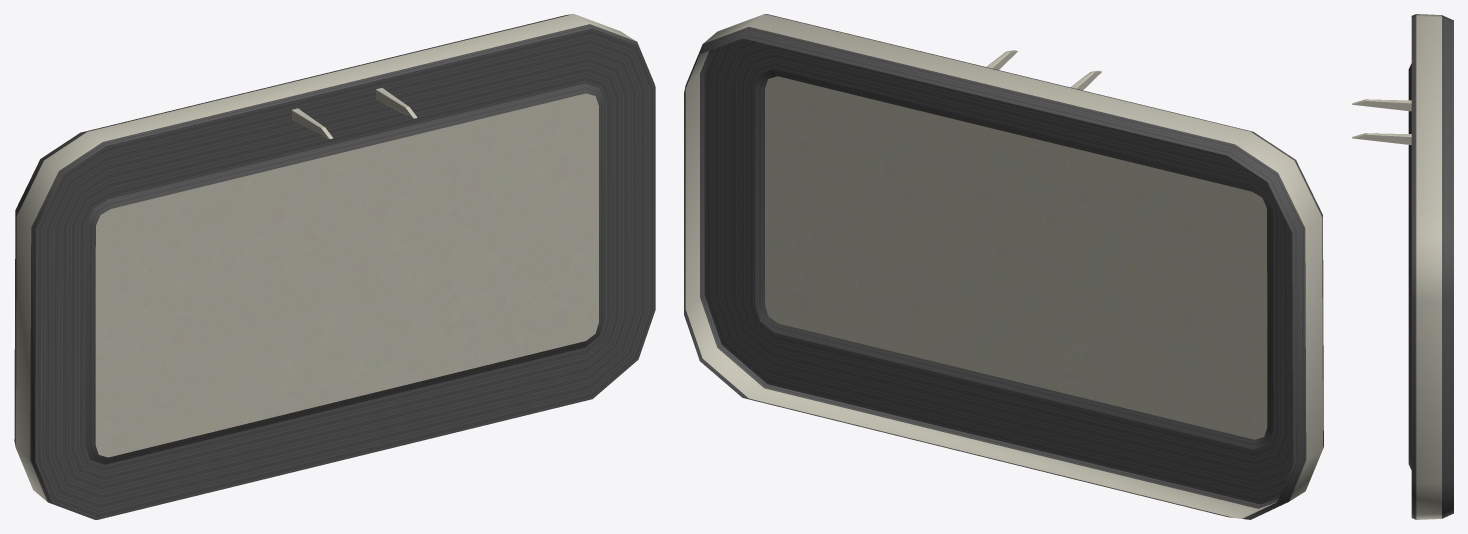
Rendered from nt_2020_car_base_LOD3.obj.
The picture shows the model from 3 angles, left to right: view 1: azimuth 30°, elevation 25°; view 2: azimuth 150°, elevation 25°; view 3: azimuth 270°, elevation 25°; orthographic projection. The views are drawn at different scales.
Parts seen in each view (by area): view 1: nt_2020_plastic_cream, nt_2020_metal_brushed_trim; view 2: nt_2020_plastic_cream, nt_2020_metal_brushed_trim; view 3: nt_2020_plastic_cream, nt_2020_metal_brushed_trim.
Part boxes in pixels (box(x1,y1,x2,y2)): nt_2020_plastic_cream: box(16, 14, 636, 501); nt_2020_metal_brushed_trim: box(14, 14, 655, 519); nt_2020_plastic_cream: box(685, 14, 1322, 518); nt_2020_metal_brushed_trim: box(684, 14, 1323, 519); nt_2020_plastic_cream: box(1352, 14, 1441, 519); nt_2020_metal_brushed_trim: box(1408, 14, 1453, 519).
Bounding box in the file's own units: 459 × 264 × 79.18.
